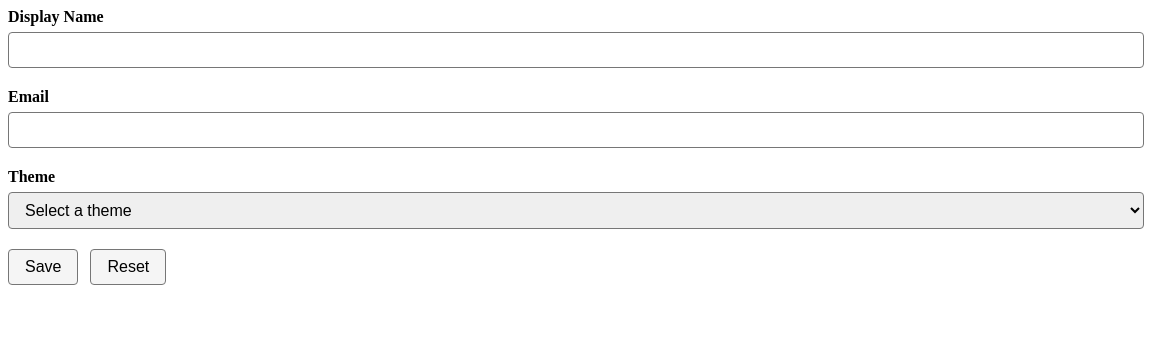
Test: SettingsForm › clears validation errors and restores initial values on reset
The image size is (1152, 350).
Step 1. Type "Jane Doe" into the field labelled "Display Name" → (576, 50), box [8,32,1144,68]
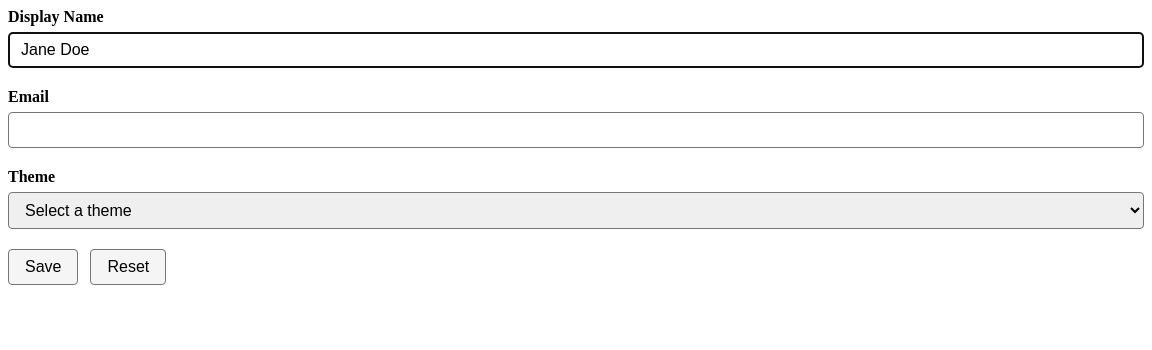
Step 2. Click the button "Save" → (43, 267), box [8,249,78,285]
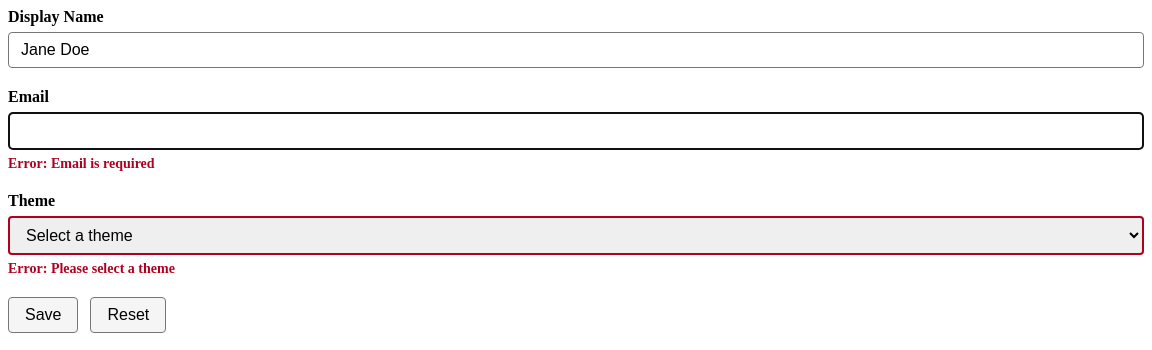
Now the text "Email is required" is shown, box [51,156,155,171]
Step 3. Click the button "Reset" → (128, 315), box [90,297,166,333]
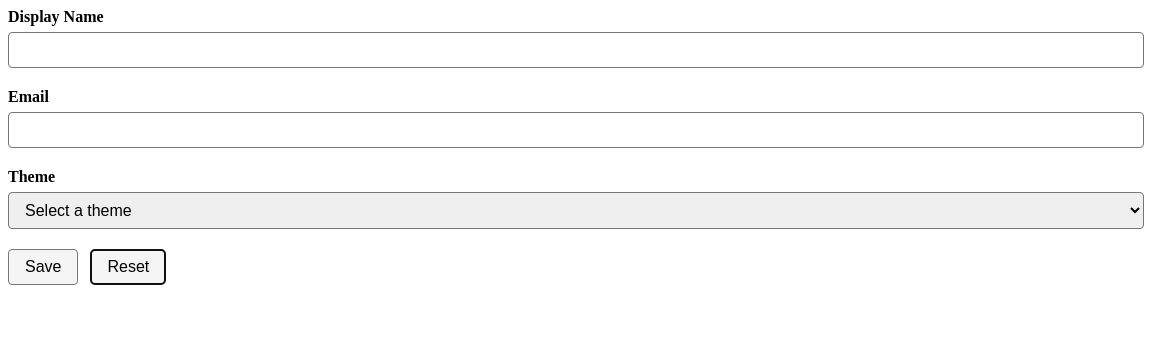
Expected: the field labelled "Email" is empty, [8,112,1144,148]
Now the text "Email is required" is gone
Now the field labelled "Display Name" is empty, box [8,32,1144,68]
